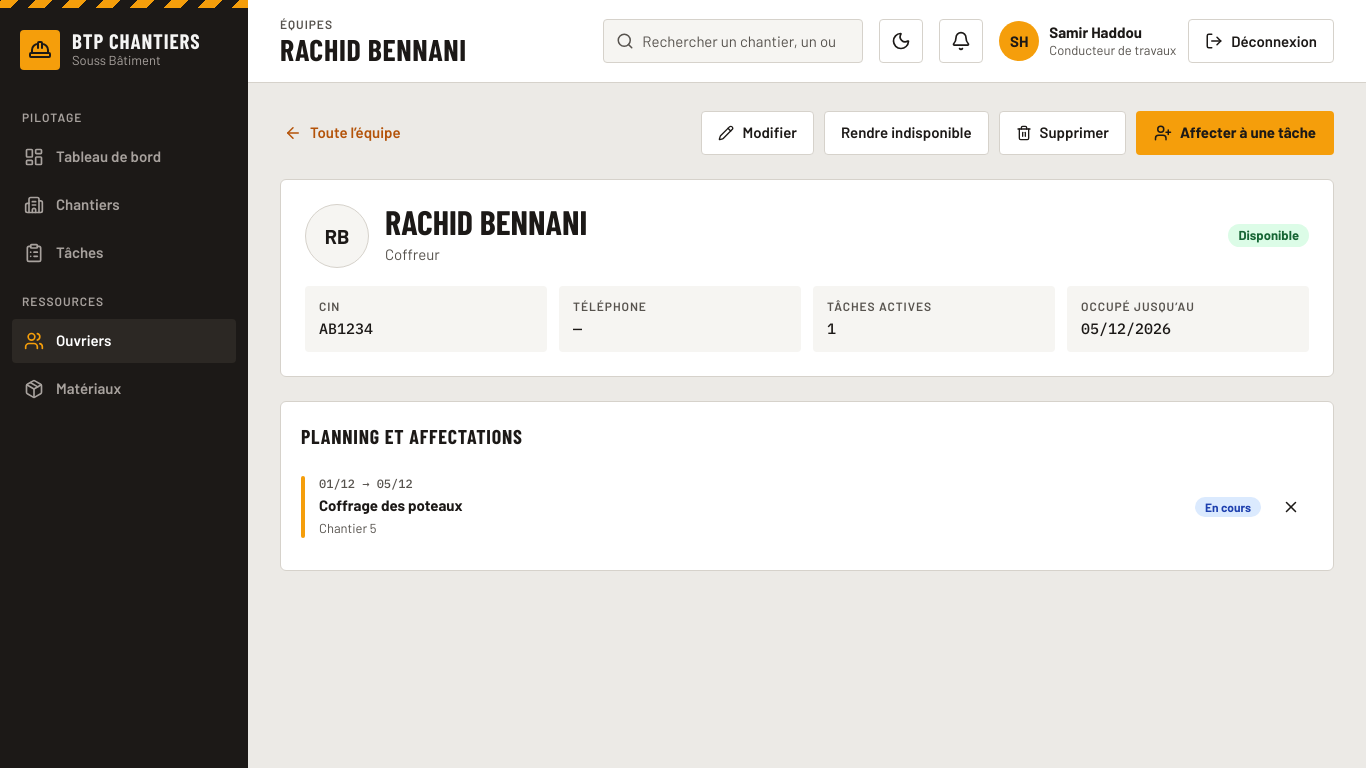
Test case: Suppression depuis la fiche (API réelle) › 409 : l’alerte du dialogue cite les tâches non terminées
Click the button "Supprimer".
click(1062, 132)  # box left=998, top=110, right=1126, bottom=154
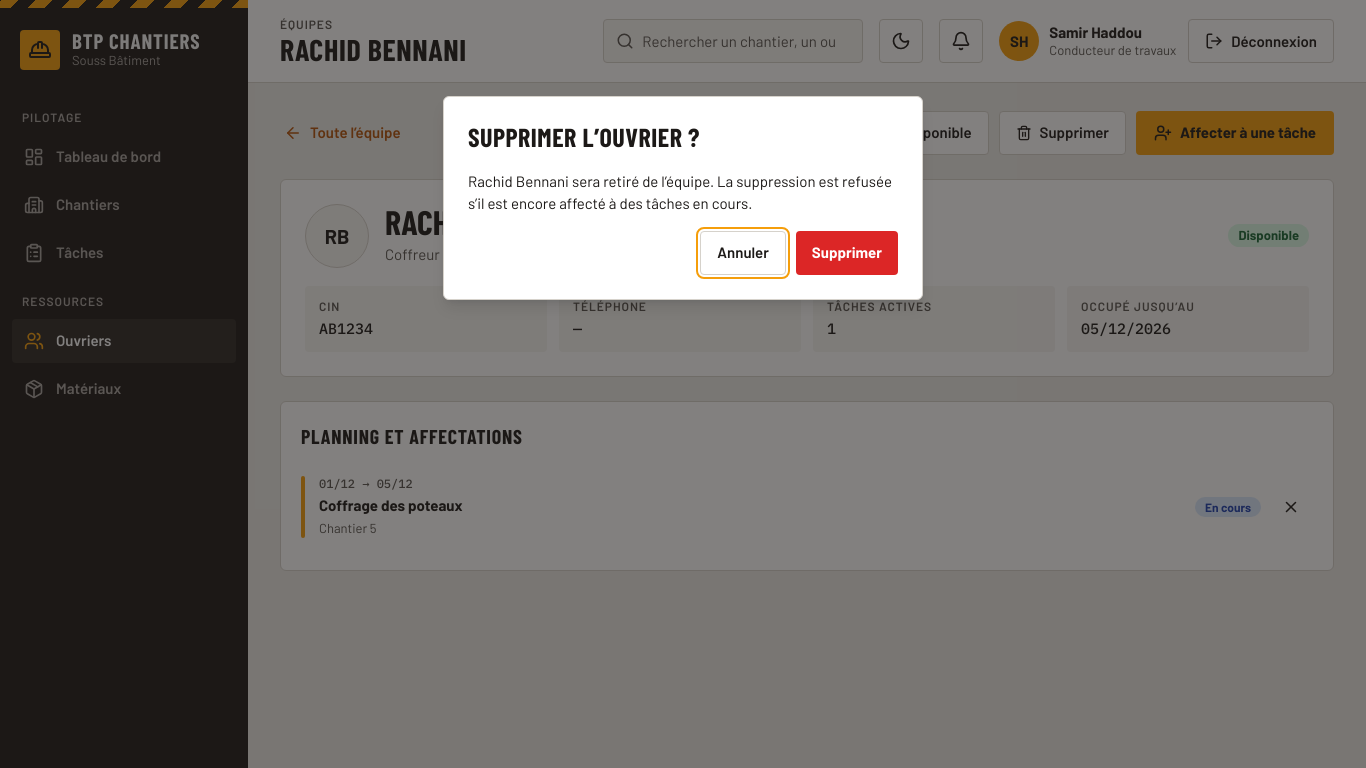
Click the button "Supprimer".
click(847, 252)  # box left=796, top=230, right=898, bottom=274
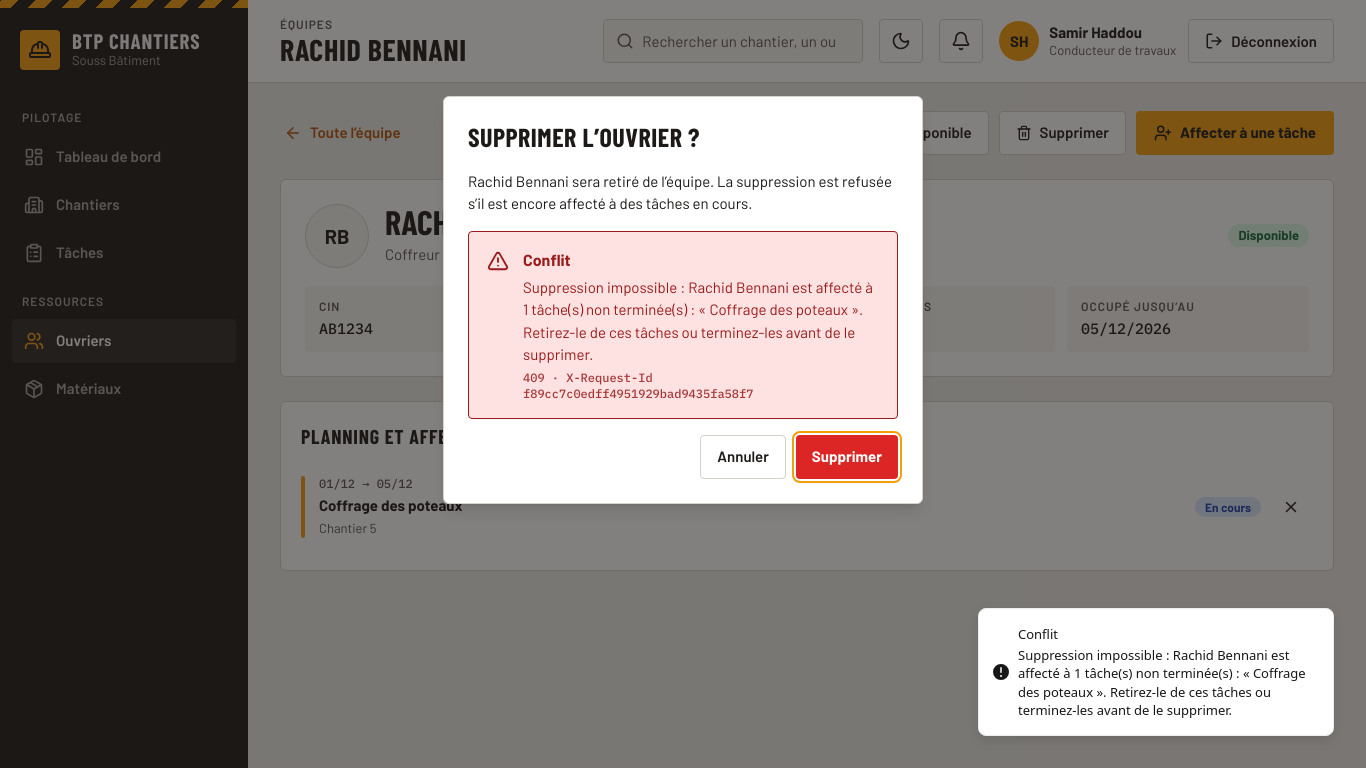
Check: the message shows "Conflit", box left=523, top=250, right=571, bottom=268
Check: the message shows "« Coffrage des poteaux »", box left=523, top=278, right=873, bottom=363
Check: the message shows "409", box left=523, top=370, right=545, bottom=384
